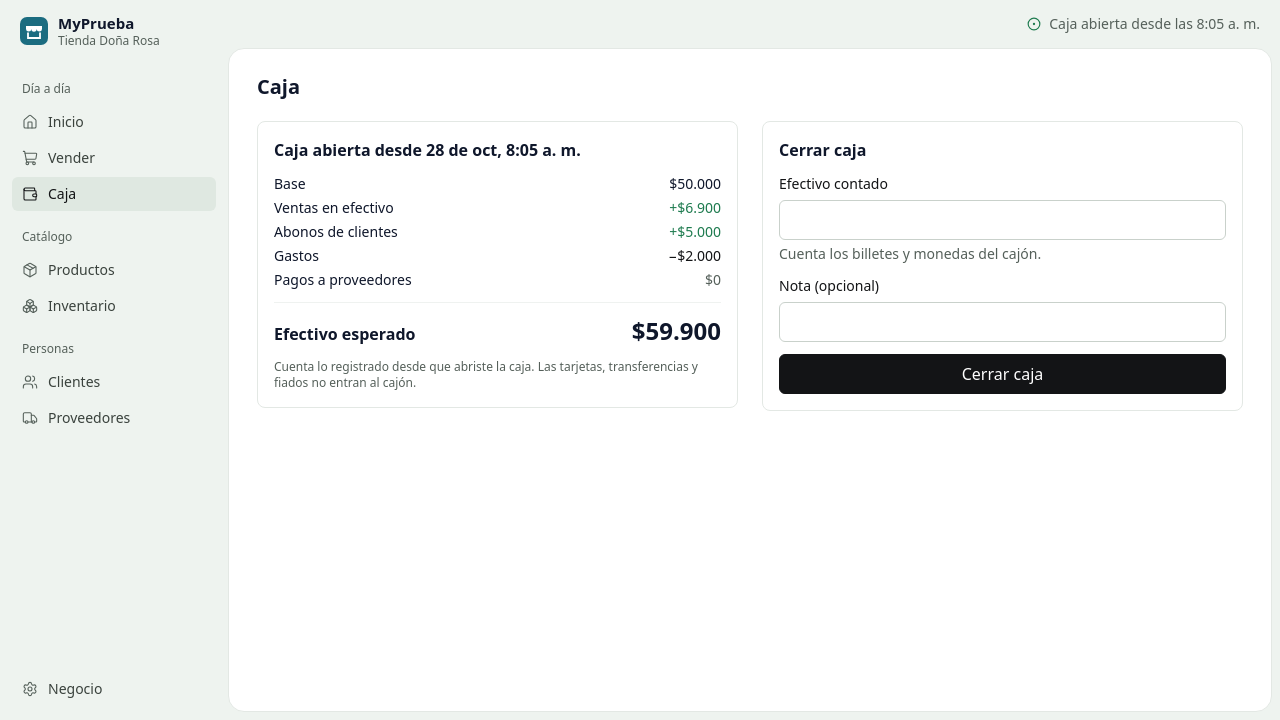
cash register › shows the expected cash and closes with a count
The width and height of the screenshot is (1280, 720).
Expected: the text "+$6.900" is shown, [669,198,721,218]
Expected: the text "−$2.000" is shown, [668,246,721,266]
Type "59.000" into the field labelled "Efectivo contado".
click(1002, 220); type("59.000")  # box [779,200,1226,240]
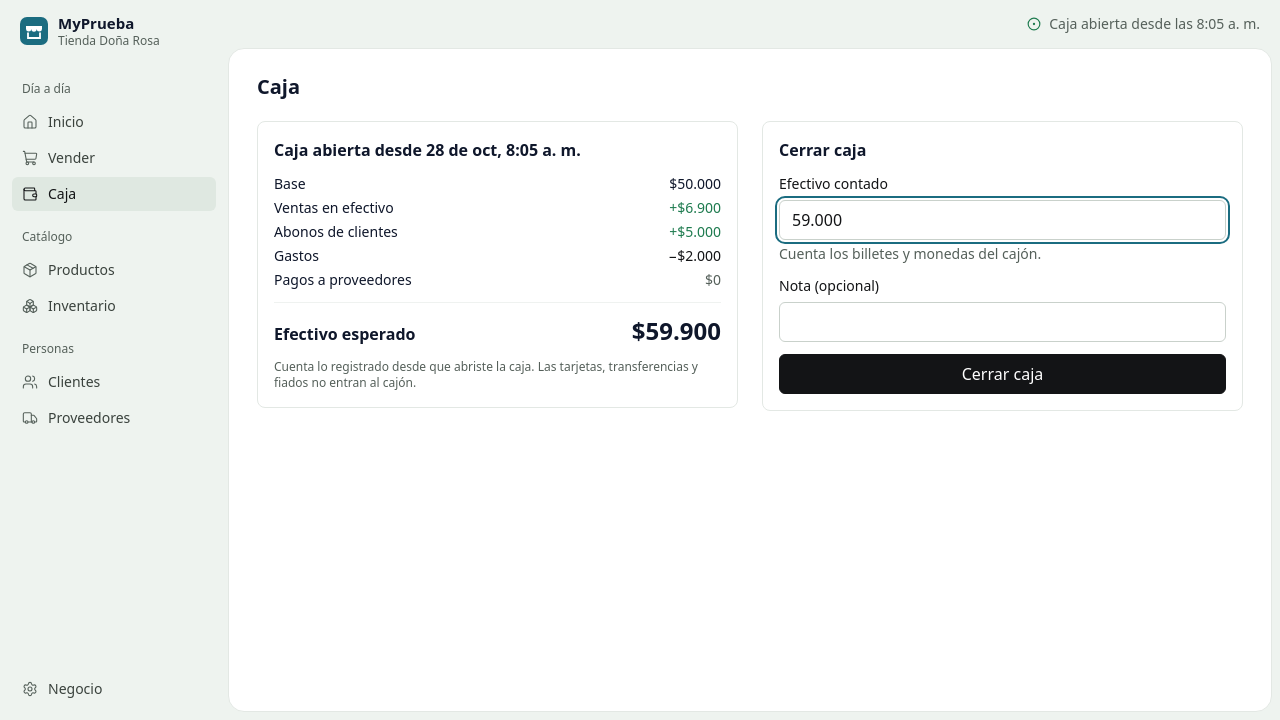
Click the button "Cerrar caja".
click(1002, 374)  # box [779,354,1226,394]
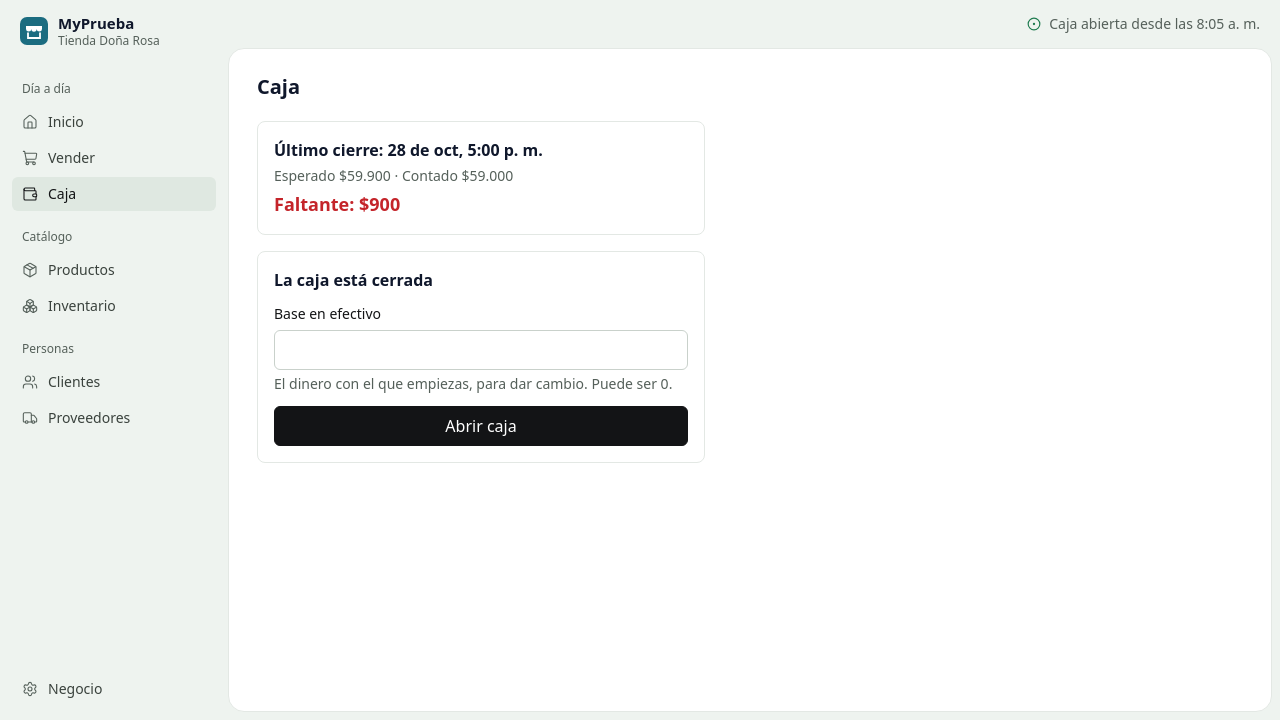
Now the text "Faltante: $900" is shown, box [274,192,400,216]
